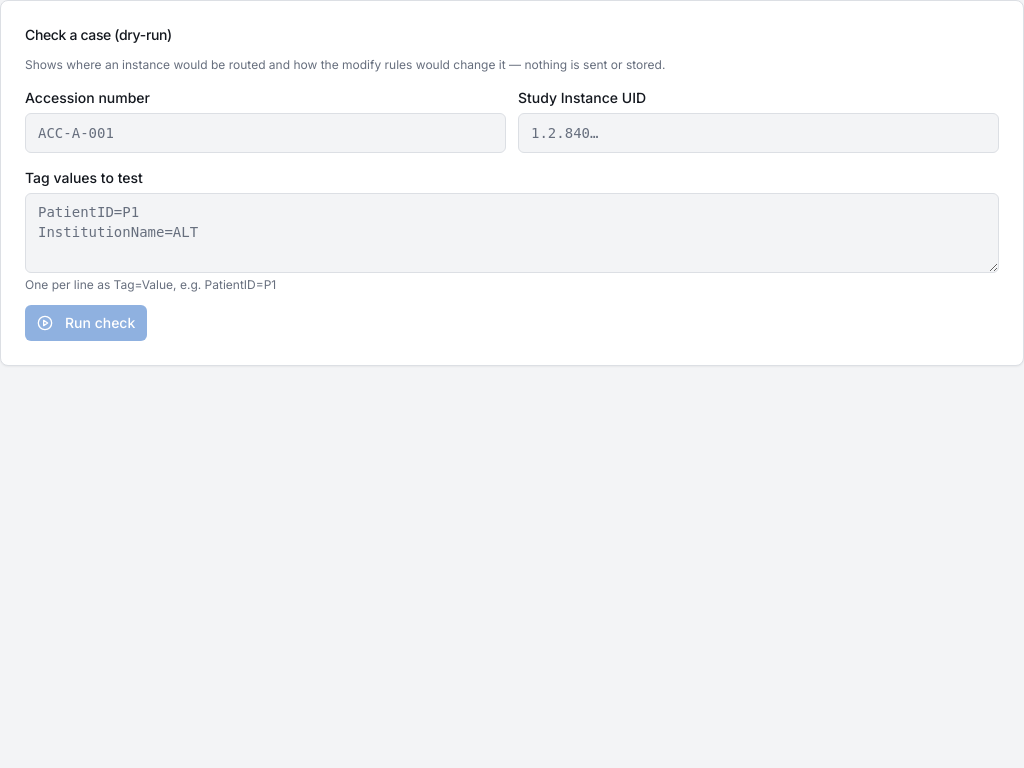
Scenario: CaseCheckPanel › lists operations that would fail
Type "ACC-1" into the field labelled "Accession number" at (266, 133), box [25,113,506,153]
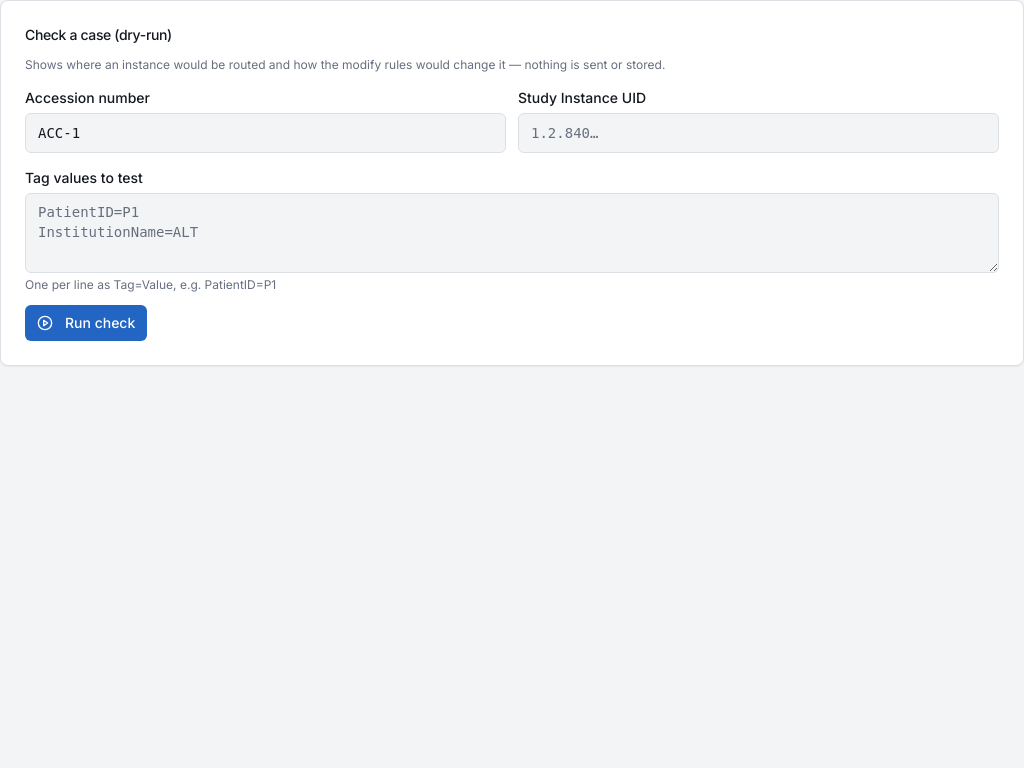
Click the button "Run check" at (86, 323), box [25,305,147,341]
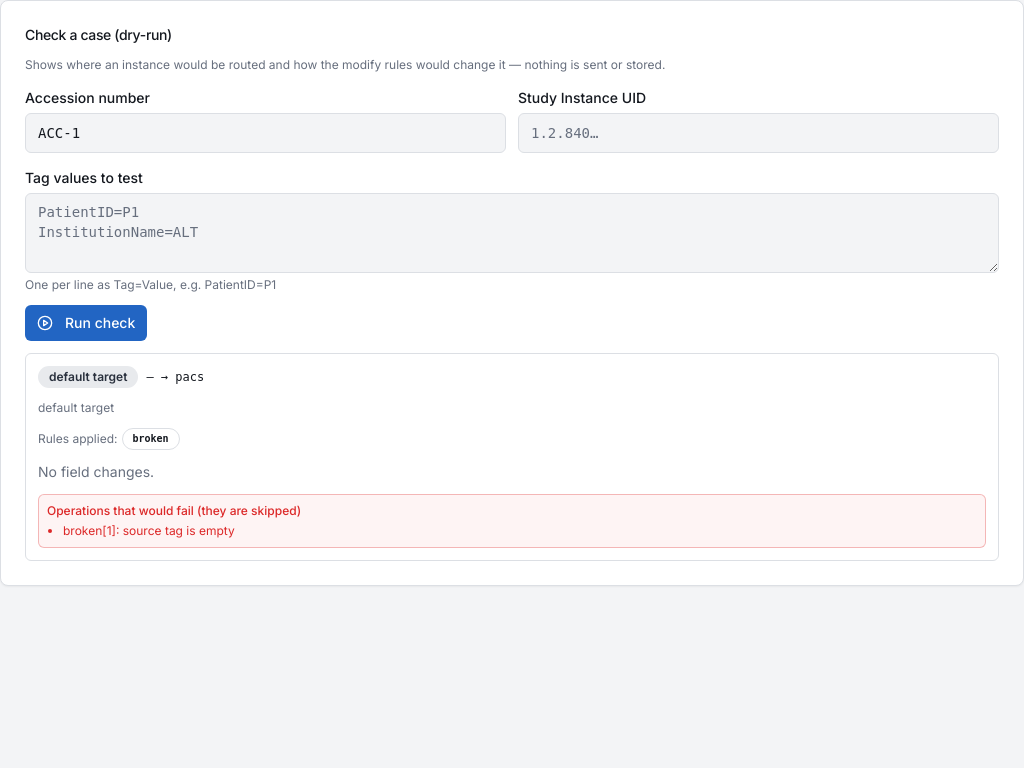
Now the list item "broken[1]: source tag is empty" is shown, box [63,523,235,538]
